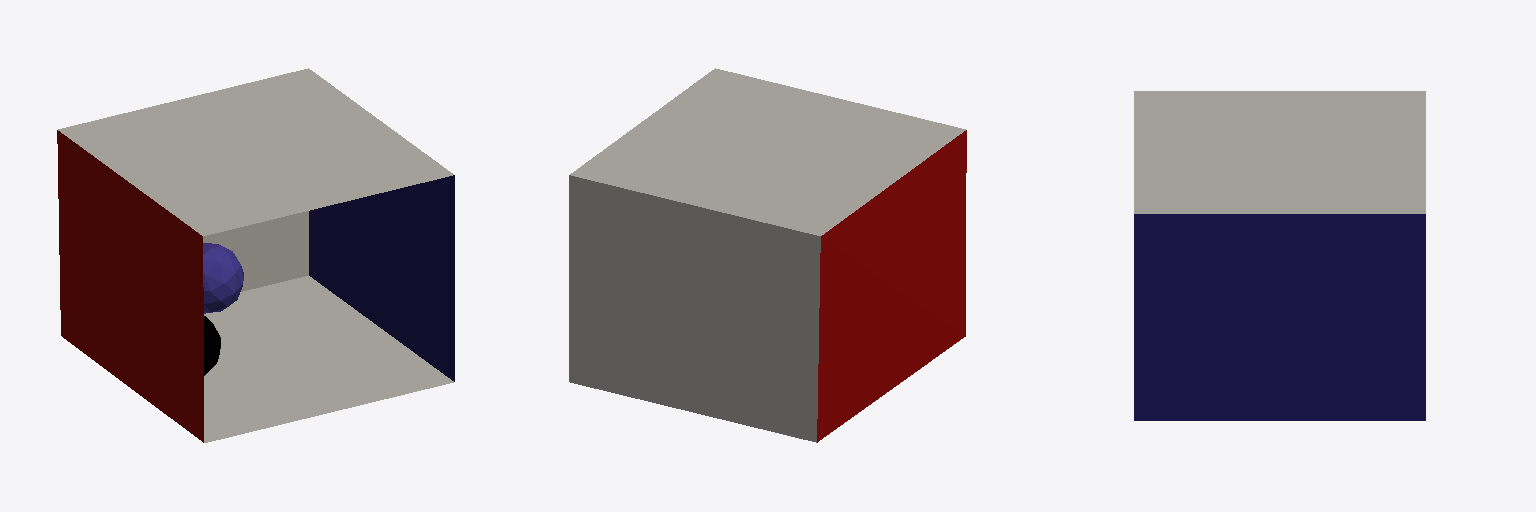
Rendered from CornellBox-Sphere-237.obj.
3 renders of one model, left to right at view 1: azimuth 30°, elevation 25°; view 2: azimuth 150°, elevation 25°; view 3: azimuth 270°, elevation 25°, orthographic.
Visible parts, largest first — view 1: ceiling, leftWall, floor, rightWall, backWall, leftSphere, rightSphere; view 2: backWall, ceiling, leftWall; view 3: rightWall, ceiling.
Part boxes in pixels (x1,y1,x2,y2): ceiling: (58, 68, 453, 235); leftWall: (57, 130, 203, 442); floor: (204, 276, 453, 442); rightWall: (309, 175, 454, 381); backWall: (203, 211, 308, 291); leftSphere: (203, 243, 243, 313); rightSphere: (204, 316, 220, 375); backWall: (569, 175, 820, 442); ceiling: (570, 68, 965, 235); leftWall: (817, 130, 966, 442); rightWall: (1134, 214, 1425, 420); ceiling: (1134, 91, 1425, 213).
Size of the model in its own units: 2.02 by 1.59 by 2.03.